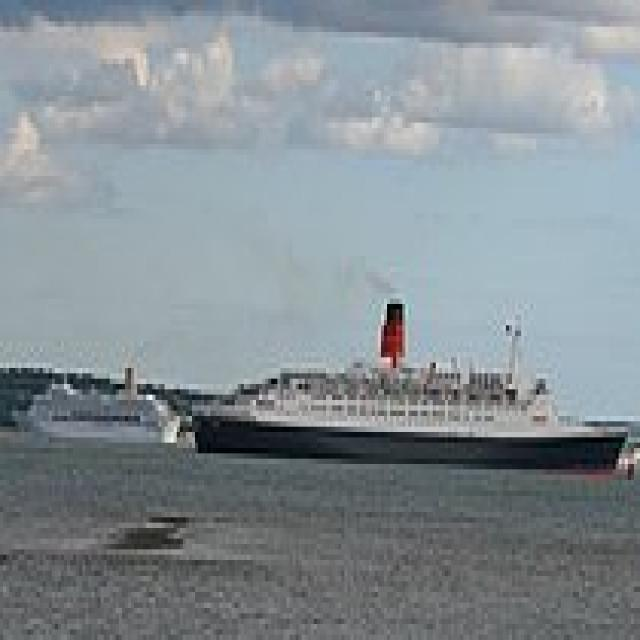Ship: (196, 321, 635, 487), (19, 316, 187, 460)
